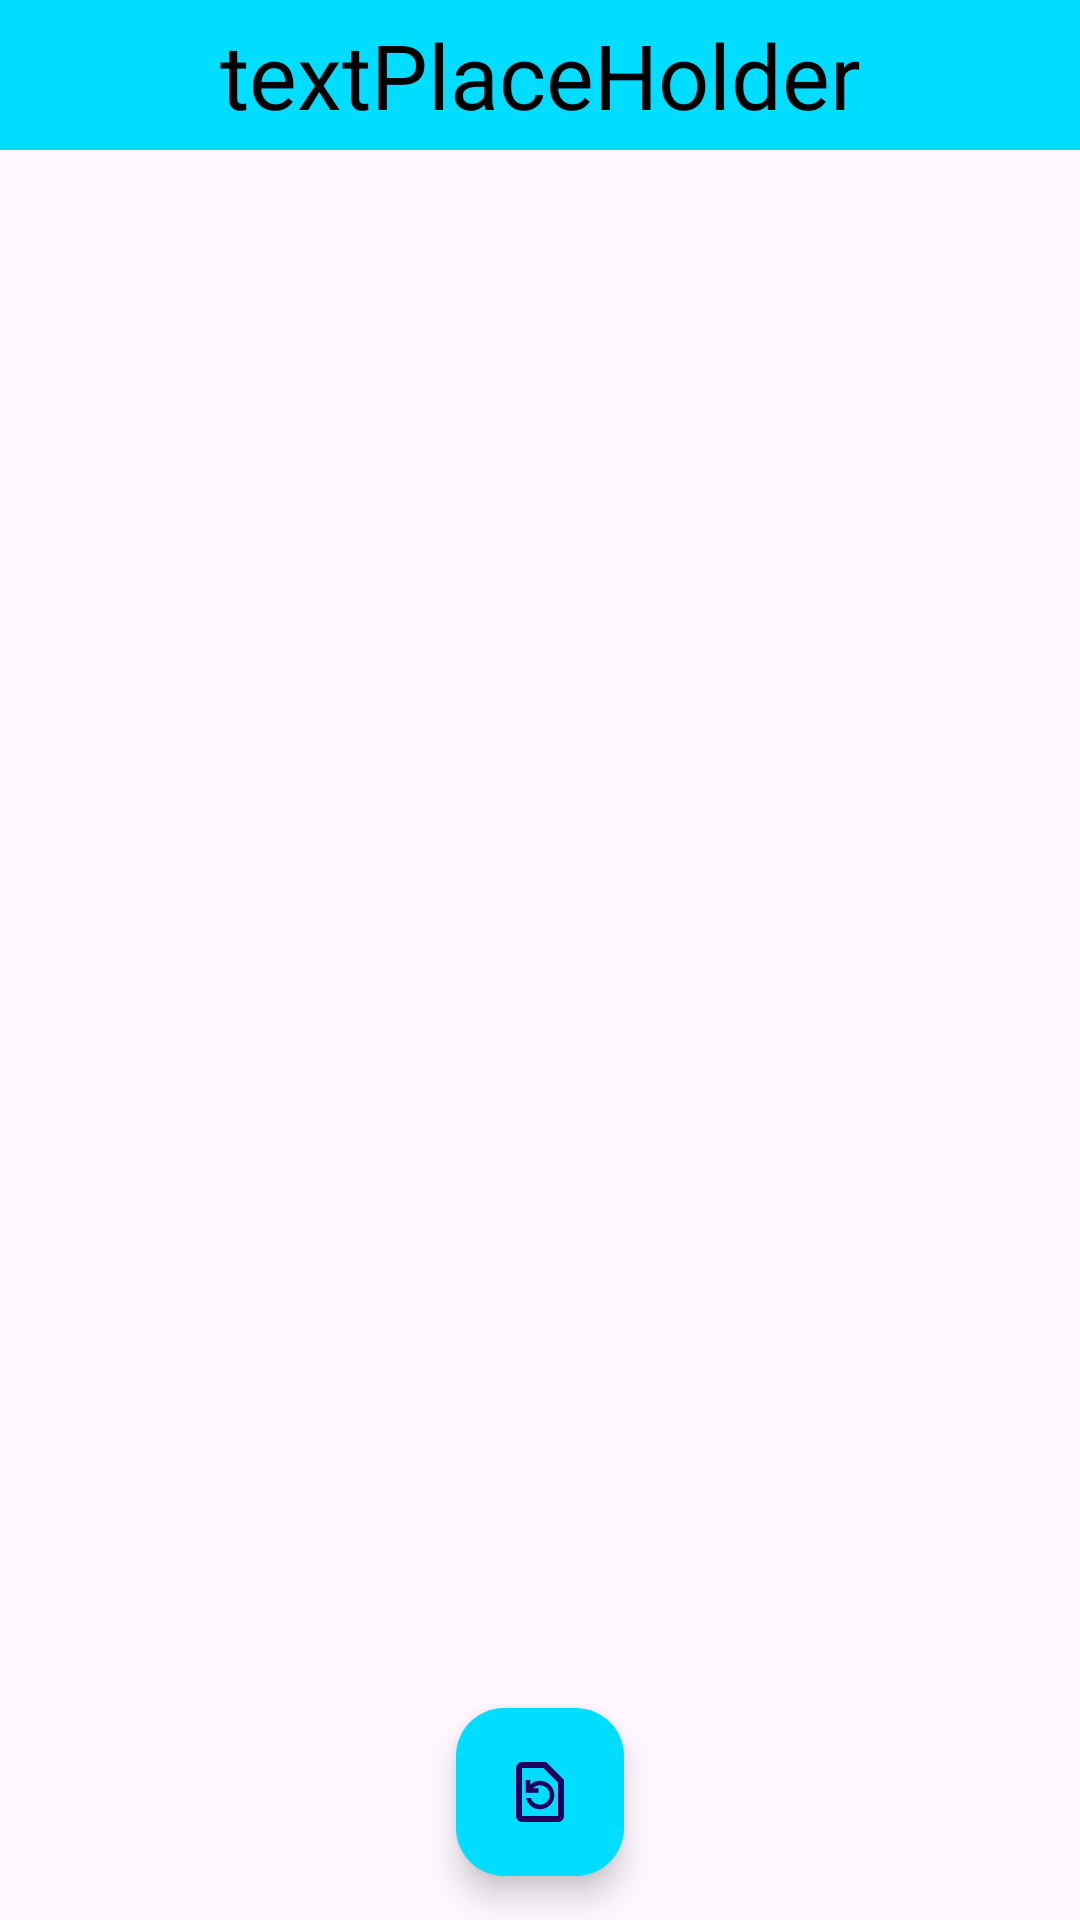

Where to tap for icons on this 1080px×1920px app screen, as (x,y):
refresh tickers: (540,1792)
